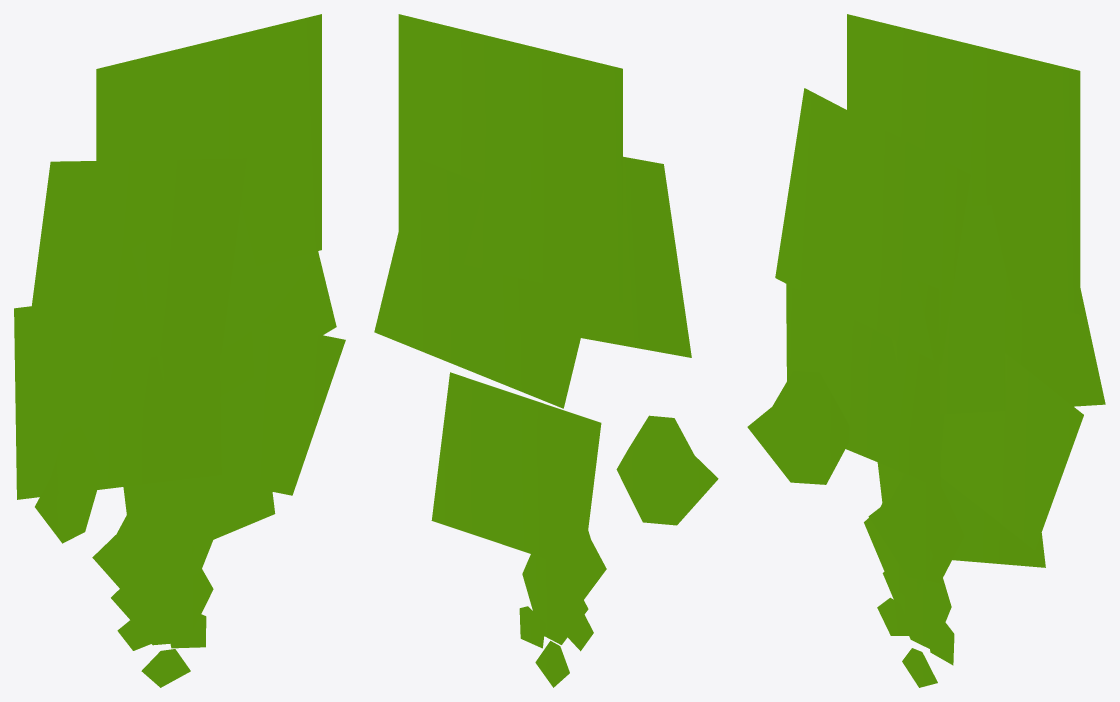
Rendered from prop-vine2.glb.
3 renders of one model, left to right at view 1: azimuth 30°, elevation 25°; view 2: azimuth 150°, elevation 25°; view 3: azimuth 330°, elevation 25°, orthographic. The views are drawn at different scales.
Visible parts, largest first — view 1: Prop_Vine2; view 2: Prop_Vine2; view 3: Prop_Vine2.
Part boxes in pixels (box(x1,y1,x2,y2)): Prop_Vine2: box(14, 14, 345, 687); Prop_Vine2: box(374, 14, 718, 687); Prop_Vine2: box(747, 14, 1105, 687).
Bounding box in the file's own units: 1.39 × 2.6 × 0.2138.
